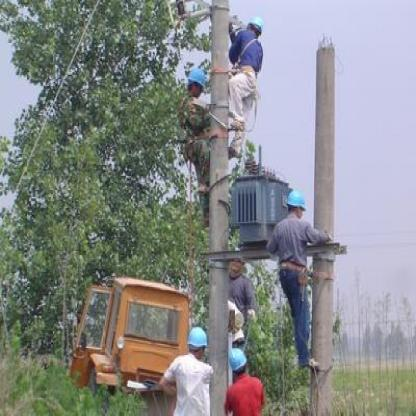helmet: (284, 187, 309, 222), (186, 324, 207, 364), (226, 347, 248, 381), (186, 69, 208, 100), (245, 17, 266, 44)
